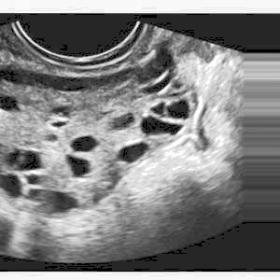PCOS: (137, 115, 185, 139), (47, 191, 82, 216), (117, 141, 151, 164), (64, 151, 92, 178), (107, 112, 137, 134), (165, 97, 192, 121), (0, 172, 23, 198), (69, 134, 100, 153), (21, 150, 44, 173), (0, 93, 20, 115), (6, 144, 24, 167), (52, 103, 75, 119), (152, 100, 168, 120), (24, 174, 43, 186), (44, 130, 59, 145), (28, 186, 42, 202), (49, 120, 69, 129)
